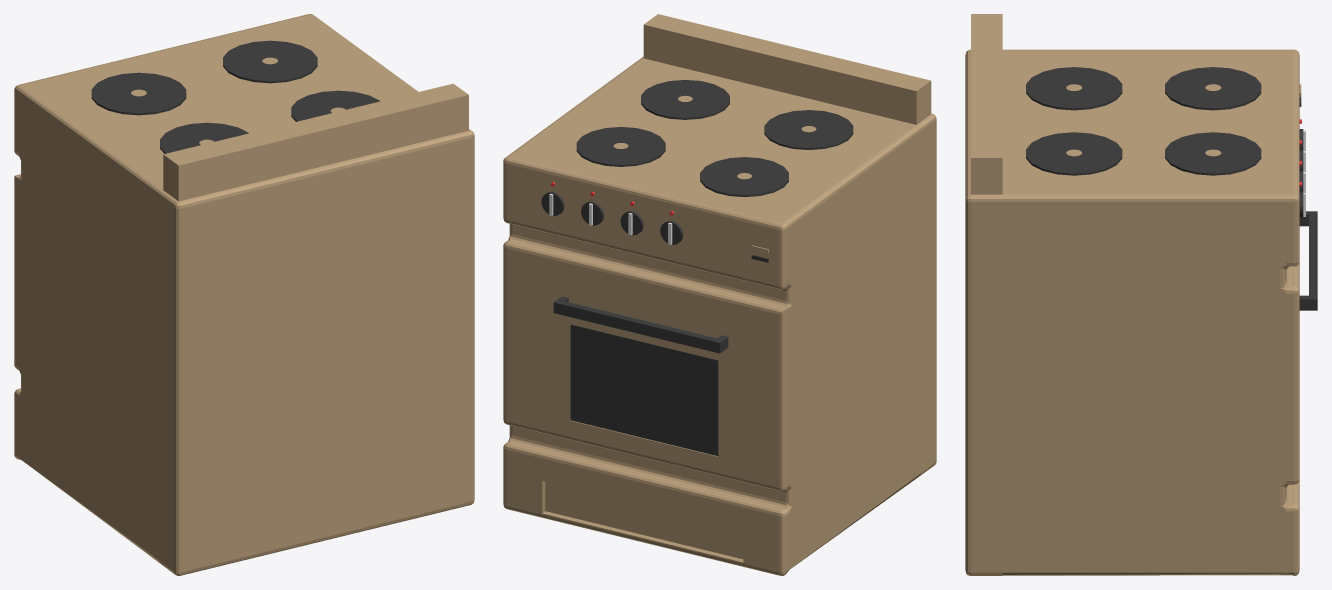
3 views of the same model, side by side, from view 1: azimuth 30°, elevation 25°; view 2: azimuth 150°, elevation 25°; view 3: azimuth 270°, elevation 25° (orthographic). The views are drawn at different scales.
Visible parts, largest first — view 1: Box012, Cylinder027, Cylinder021, Cylinder024, Cylinder025; view 2: Box012, Object007, Cylinder021, Cylinder025, Cylinder024, Cylinder027, Box017; view 3: Box012, Cylinder027, Cylinder024, Cylinder025, Cylinder021, Box017.
Boxes of the visible parts, x1,y1,x2,y2 form: Box012: [14, 14, 474, 575]; Cylinder027: [91, 72, 186, 115]; Cylinder021: [223, 40, 317, 83]; Cylinder024: [291, 90, 379, 121]; Cylinder025: [160, 122, 248, 153]; Box012: [503, 14, 936, 575]; Object007: [570, 324, 718, 455]; Cylinder021: [576, 127, 665, 166]; Cylinder025: [764, 110, 853, 149]; Cylinder024: [641, 80, 729, 119]; Cylinder027: [700, 157, 788, 197]; Box017: [557, 300, 719, 351]; Box012: [965, 14, 1299, 575]; Cylinder027: [1165, 67, 1261, 110]; Cylinder024: [1026, 132, 1122, 175]; Cylinder025: [1026, 67, 1122, 110]; Cylinder021: [1165, 132, 1261, 175]; Box017: [1309, 213, 1317, 295].
Size of the model in its own units: 16765 by 21894 by 16757.
